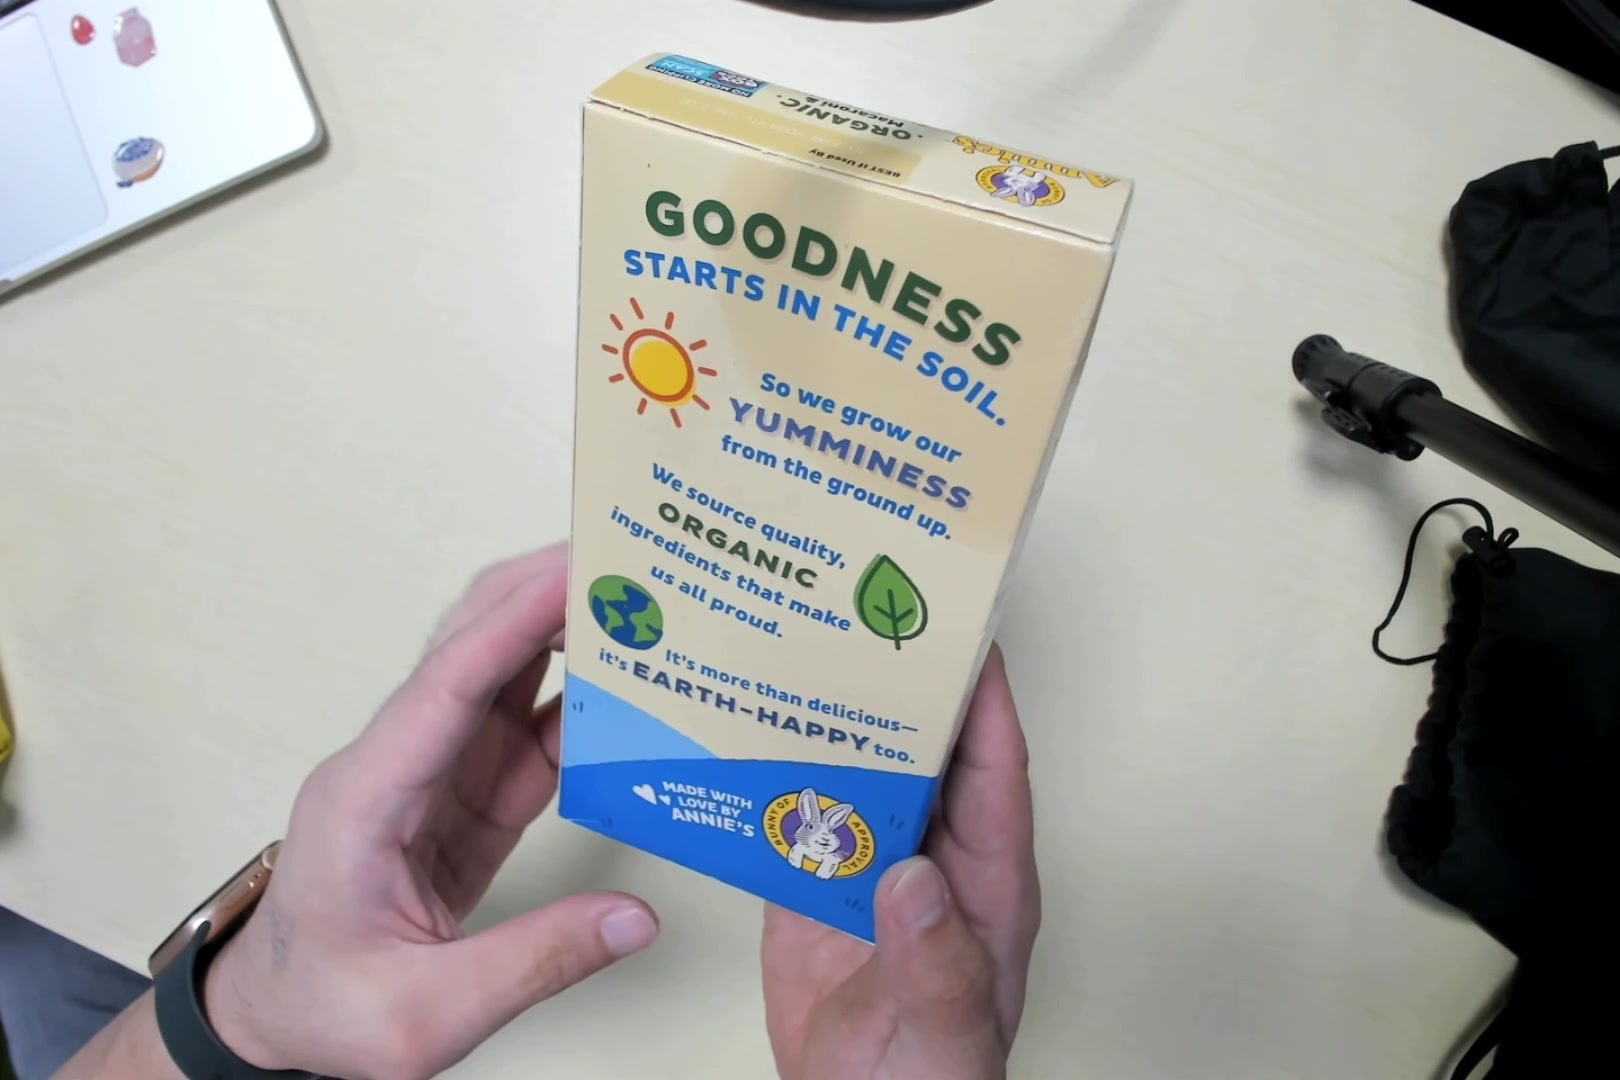InstantMeals_200-299g_NonHalal_NonHealthy: (548, 45, 1135, 950)
